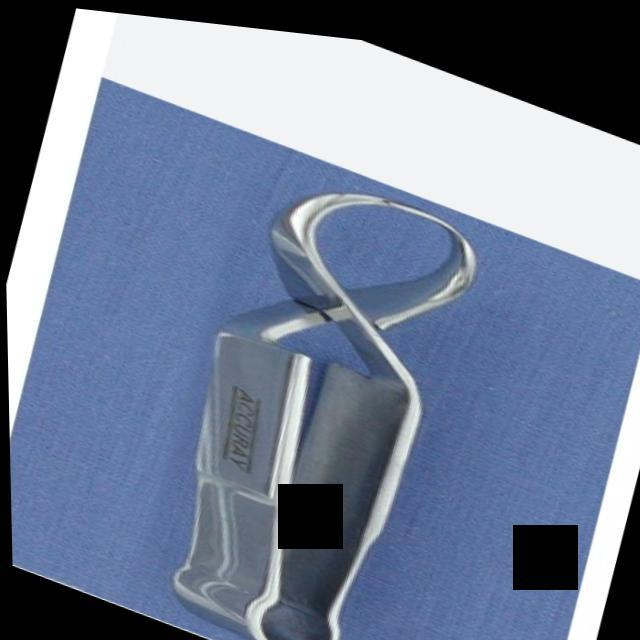Doyen Cross Action Towel Clamp: (131, 126, 513, 640)
